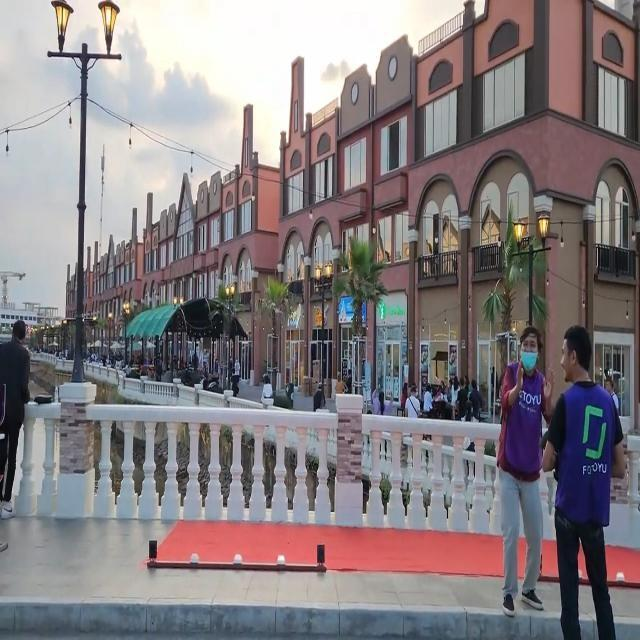hairnet: (520, 331, 538, 369)
